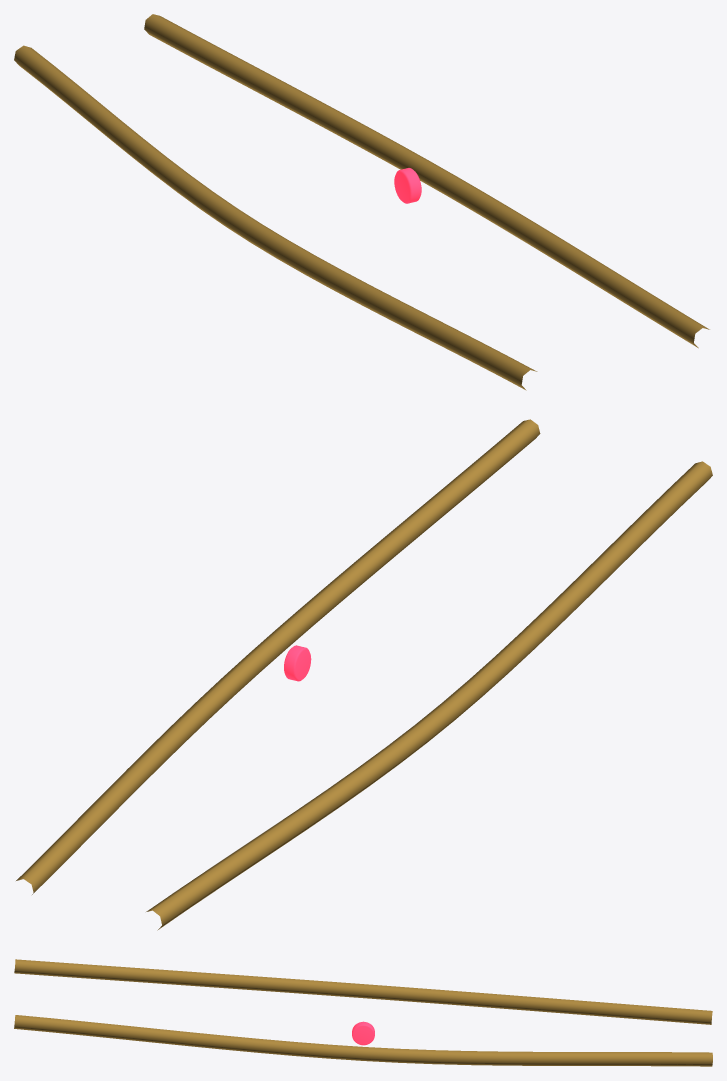
The model's file is tower_filament_ramp_s2.glb.
3 views of the same model, one above another, from view 1: azimuth 30°, elevation 25°; view 2: azimuth 150°, elevation 25°; view 3: azimuth 270°, elevation 25° (orthographic). The views are drawn at different scales.
Parts seen in each view (by area): view 1: filament_heat_pipe_l, filament_heat_pipe_r, filament_up_ramp_l2_stud; view 2: filament_heat_pipe_r, filament_heat_pipe_l, filament_up_ramp_l2_stud; view 3: filament_heat_pipe_r, filament_heat_pipe_l, filament_up_ramp_l2_stud.
Boxes of the visible parts, x1=… form: filament_heat_pipe_l: x1=144, y1=14, x2=709, y2=348; filament_heat_pipe_r: x1=14, y1=45, x2=537, y2=390; filament_up_ramp_l2_stud: x1=394, y1=168, x2=421, y2=203; filament_heat_pipe_r: x1=146, y1=461, x2=712, y2=930; filament_heat_pipe_l: x1=16, y1=419, x2=540, y2=894; filament_up_ramp_l2_stud: x1=284, y1=645, x2=311, y2=681; filament_heat_pipe_r: x1=14, y1=959, x2=712, y2=1024; filament_heat_pipe_l: x1=14, y1=1015, x2=712, y2=1066; filament_up_ramp_l2_stud: x1=352, y1=1021, x2=374, y2=1045.
Bounding box in the file's own units: 0.3985 × 0.1541 × 1.7.
